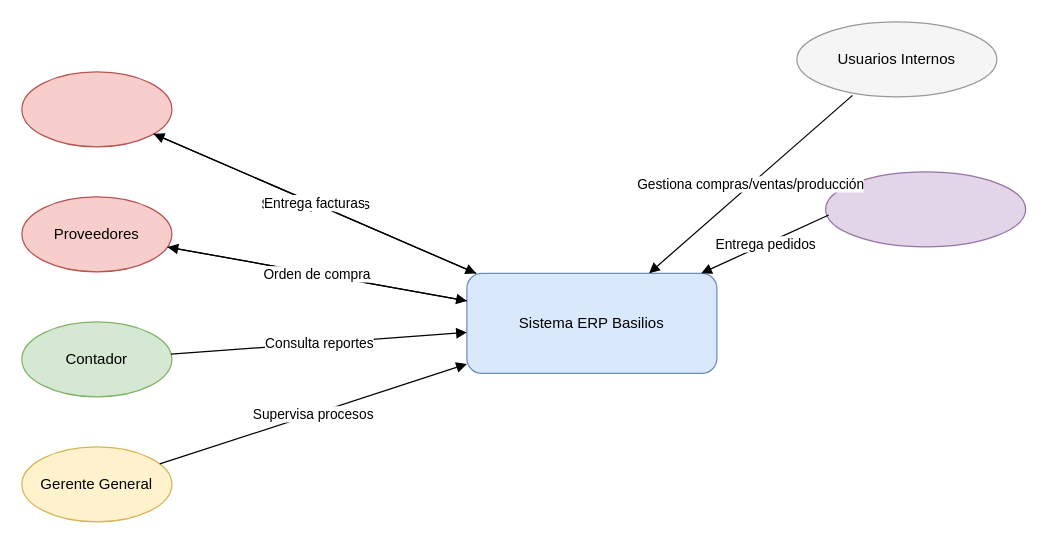
The diagram is 1048 pixels wide and 544 high, and some of its shapes have lost their labels. Here are the shapes that lost their labels. From the top down, the centre of each, then its label:
[96,109]: Clientes
[925,209]: Albarán (Repartidor)
